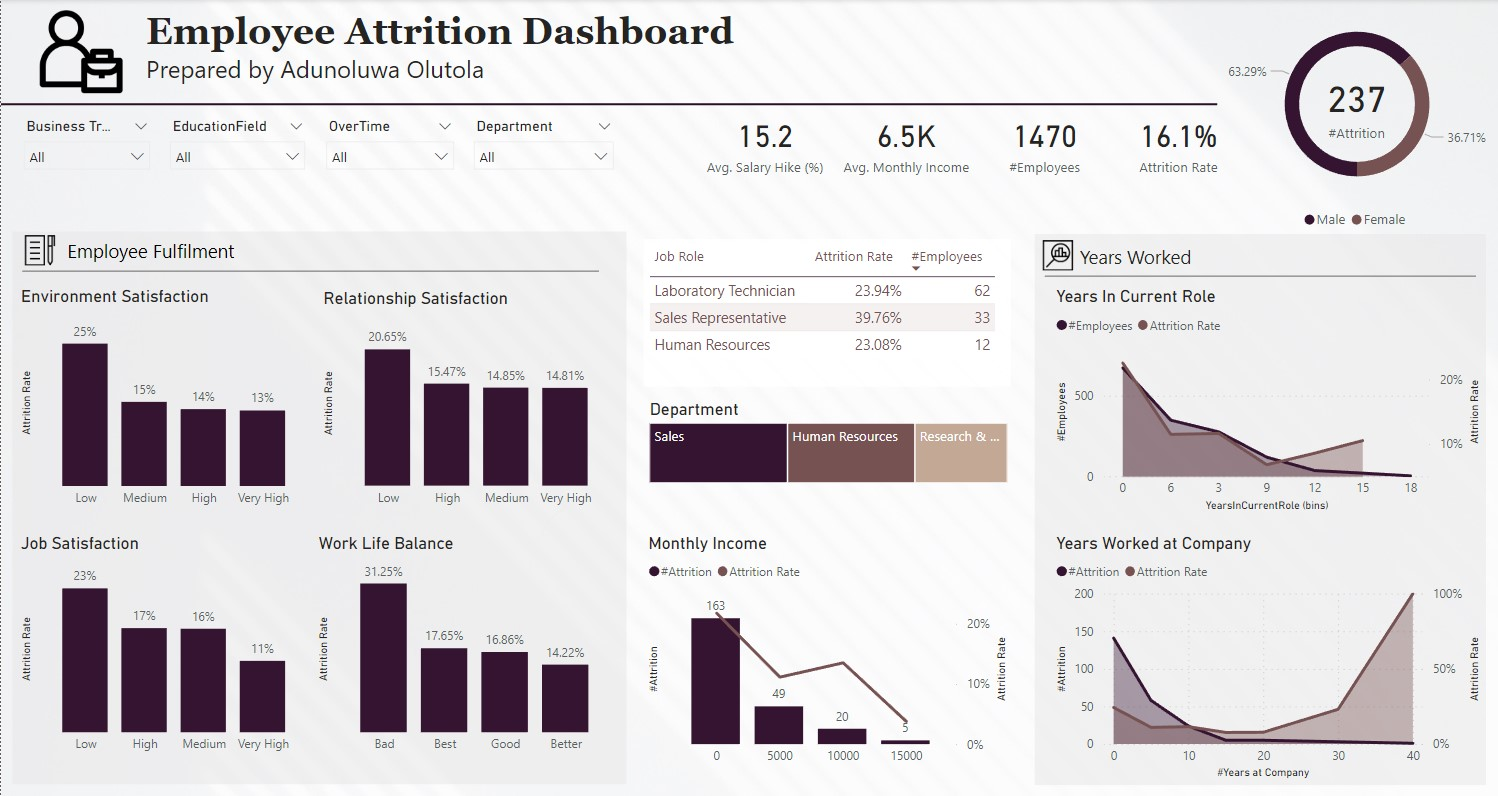

Layout of this report page (visuals, bound fields, positions):
{"tool":"powerbi","page":{"name":"Page 2","canvas":[1500,800],"ordinal":1},"visuals":[{"type":"donutChart","title":"Gender","fields":{"Category":["HR Employee Attrition.Gender"],"Y":["Calculations.#Attrition"]},"box":[1218.7,0,280,240],"z":0,"group":"g1"},{"type":"card","fields":{"Values":["Calculations.#Employees"]},"box":[976.7,106.7,138,75],"z":0,"group":"g3"},{"type":"slicer","fields":{"Values":["HR Employee Attrition.BusinessTravel"]},"box":[13,114.3,146.7,63.5],"z":0,"group":"g2"},{"type":"shape","box":[11.7,233.3,615,553.3],"z":0},{"type":"textbox","box":[1075,239.7,255,35.8],"z":0,"group":"g4"},{"type":"card","fields":{"Values":["Calculations.#Attrition"]},"box":[1277.5,63.3,161.7,85],"z":1000,"group":"g1"},{"type":"card","fields":{"Values":["Avg(HR Employee Attrition.MonthlyIncome)"]},"box":[838.4,106.7,138.3,75],"z":1000,"group":"g3"},{"type":"slicer","fields":{"Values":["HR Employee Attrition.Department"]},"box":[463.5,114.3,160.3,63.5],"z":1000,"group":"g2"},{"type":"shape","box":[1035,235,451.7,551.7],"z":1000},{"type":"card","fields":{"Values":["Avg(HR Employee Attrition.PercentSalaryHike)"]},"box":[696.7,106.7,138.3,75],"z":2000,"group":"g3"},{"type":"slicer","fields":{"Values":["HR Employee Attrition.OverTime"]},"box":[315.4,114.3,148.2,63.5],"z":2000,"group":"g2"},{"type":"textbox","box":[61.2,234.9,232.5,37.1],"z":2000,"group":"g5"},{"type":"basicShape","box":[1035,267.1,451.7,19.2],"z":2000,"group":"g4"},{"type":"group","id":"g1","title":"Group 1","box":[1218.7,0,280,240],"z":3000},{"type":"slicer","fields":{"Values":["HR Employee Attrition.EducationField"]},"box":[159.7,114.3,155.7,63.5],"z":3000,"group":"g2"},{"type":"card","fields":{"Values":["Calculations.Attrition Rate"]},"box":[1111.7,106.7,138,75],"z":4000,"group":"g3"},{"type":"basicShape","box":[11.7,263.4,597.4,19.2],"z":4000,"group":"g5"},{"type":"barChart","title":"Educational Field","fields":{"Category":["HR Employee Attrition.EducationField"],"Y":["Calculations.Attrition Rate"]},"box":[310.9,286.4,312.3,231.8],"z":5000},{"type":"barChart","title":"Education","fields":{"Category":["HR Employee Attrition.Education1"],"Y":["Calculations.Attrition Rate"]},"box":[15,288.1,300,230],"z":6000},{"type":"areaChart","title":"Distance From Home","fields":{"Category":["HR Employee Attrition.DistanceFromHome (bins)"],"Y":["Calculations.#Attrition"],"Y2":["Calculations.Attrition Rate"]},"box":[1051.7,535,435,251.7],"z":7000},{"type":"group","id":"g2","title":"Group 3","box":[13,114.3,610,63.3],"z":8000},{"type":"lineClusteredColumnComboChart","title":"Monthly Income","fields":{"Category":["HR Employee Attrition.MonthlyIncome (bins)"],"Y2":["Calculations.Attrition Rate"],"Y":["Calculations.#Attrition"]},"box":[643.3,535,370,241.7],"z":9000},{"type":"lineStackedColumnComboChart","title":"Years In Current Role","fields":{"Category":["HR Employee Attrition.Age (bins)"],"Y2":["Calculations.Attrition Rate"],"Y":["Calculations.#Employees"]},"box":[16.4,534.5,593.2,252.3],"z":10000},{"type":"treemap","title":"Marital Status","fields":{"Values":["Calculations.Attrition Rate"],"Details":["HR Employee Attrition.MaritalStatus"]},"box":[645,240,368.2,278.2],"z":11000},{"type":"textbox","box":[140,6.7,613.3,91.7],"z":13000},{"type":"group","id":"g3","title":"Group 4","box":[696.7,106.7,553.3,75],"z":14000},{"type":"shape","box":[0,91.7,1218.3,28.3],"z":15000},{"type":"image","box":[15.7,0,128.6,107.1],"z":16000},{"type":"group","id":"g4","title":"Group 5","box":[1035,236.1,451.7,50.3],"z":17000},{"type":"image","box":[15,227.7,46.4,43.6],"z":18000,"group":"g5"},{"type":"group","id":"g5","title":"Group 2","box":[11.7,227.7,597.4,55],"z":18001},{"type":"areaChart","title":"Number of Companies Worked","fields":{"Category":["HR Employee Attrition.NumCompaniesWorked (bins)"],"Y":["Calculations.Attrition Rate"]},"box":[1051.4,287.7,417.3,246.8],"z":18002},{"type":"image","box":[1035,236.1,46.9,40],"z":19000,"group":"g4"}]}

Visuals, with their boxes in screenshot pixels (x1, y1, x2, y2), scaled from the page's 1500x800 canvas onto the 1498x796 screenshot:
"Gender" donutChart: 1217, 0, 1497, 239
card - Calculations.#Employees: 975, 106, 1113, 181
slicer - HR Employee Attrition.BusinessTravel: 13, 114, 159, 177
shape: 12, 232, 626, 783
textbox: 1074, 239, 1328, 274
card - Calculations.#Attrition: 1276, 63, 1437, 148
card - Avg(HR Employee Attrition.MonthlyIncome): 837, 106, 975, 181
slicer - HR Employee Attrition.Department: 463, 114, 623, 177
shape: 1034, 234, 1485, 783
card - Avg(HR Employee Attrition.PercentSalaryHike): 696, 106, 834, 181
slicer - HR Employee Attrition.OverTime: 315, 114, 463, 177
textbox: 61, 234, 293, 271
basicShape: 1034, 266, 1485, 285
"Group 1" group: 1217, 0, 1497, 239
slicer - HR Employee Attrition.EducationField: 159, 114, 315, 177
card - Calculations.Attrition Rate: 1110, 106, 1248, 181
basicShape: 12, 262, 608, 281
"Educational Field" barChart: 310, 285, 622, 516
"Education" barChart: 15, 287, 315, 516
"Distance From Home" areaChart: 1050, 532, 1485, 783
"Group 3" group: 13, 114, 622, 177
"Monthly Income" lineClusteredColumnComboChart: 642, 532, 1012, 773
"Years In Current Role" lineStackedColumnComboChart: 16, 532, 609, 783
"Marital Status" treemap: 644, 239, 1012, 516
textbox: 140, 7, 752, 98
"Group 4" group: 696, 106, 1248, 181
shape: 0, 91, 1217, 119
image: 16, 0, 144, 107
"Group 5" group: 1034, 235, 1485, 285
image: 15, 227, 61, 270
"Group 2" group: 12, 227, 608, 281
"Number of Companies Worked" areaChart: 1050, 286, 1467, 532
image: 1034, 235, 1080, 275
